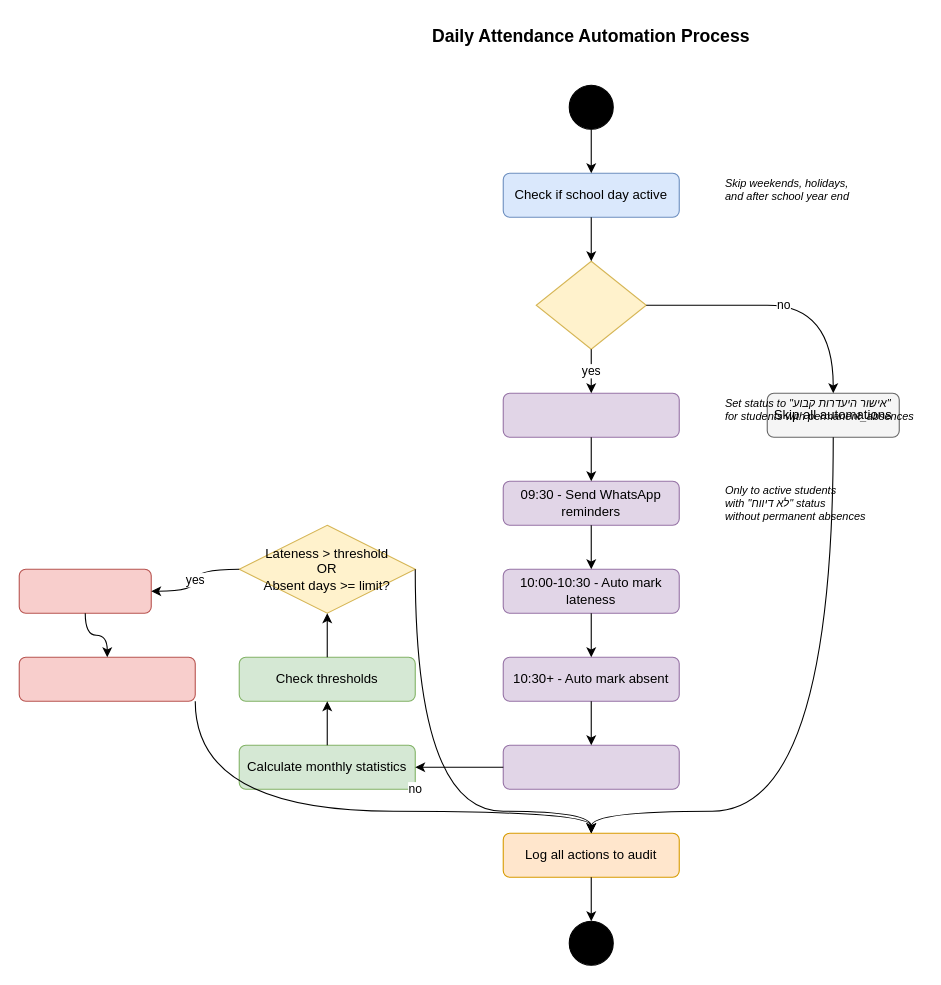
Image size: 941x985. Some labels were removed from this diagram. The shapes that lost their labels are listed below. From the top down, each one's centre as x and y in pixels, then its label:
[590,304]: School day active?
[590,414]: Process permanent absences (Morning)
[84,590]: Create claim
[106,678]: Send notifications to manager, student, court chair
[590,766]: 16:00 - Auto close day
